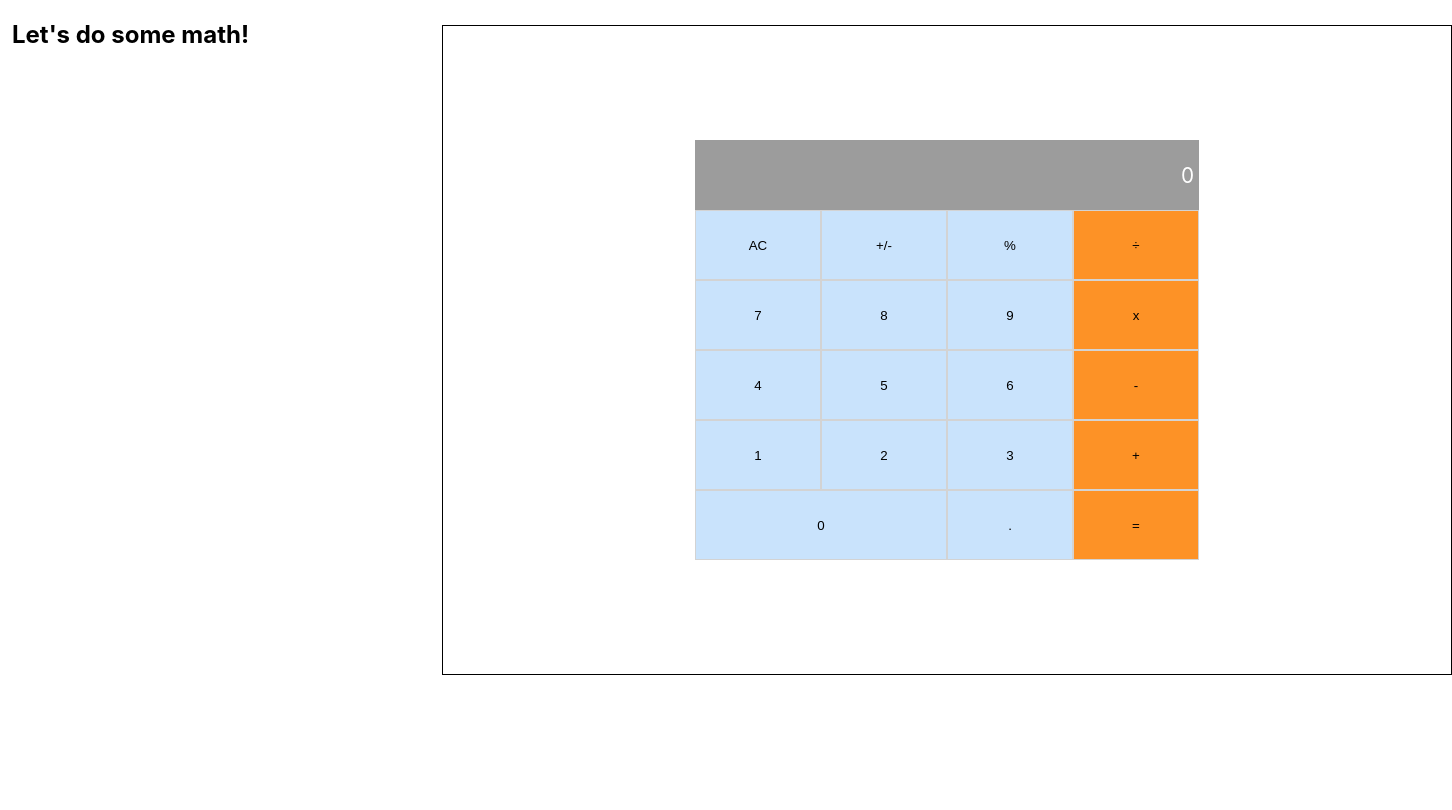
The UI works properly and it's accesible › the user press the +/- sign
Click the button "3". click: (1010, 455)
box: [947,420,1073,490]
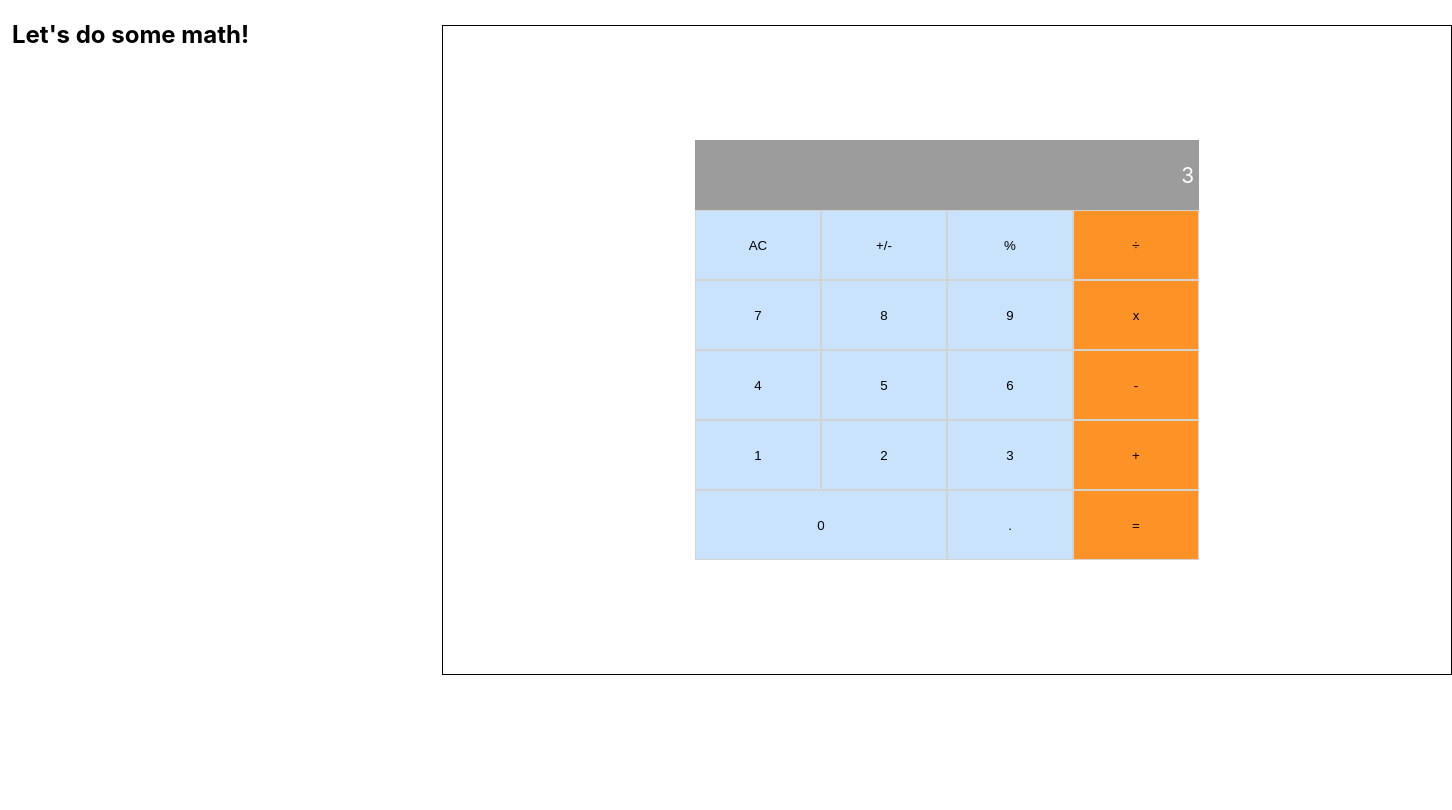
Click the button "6". click: (1010, 385)
box: [947,350,1073,420]
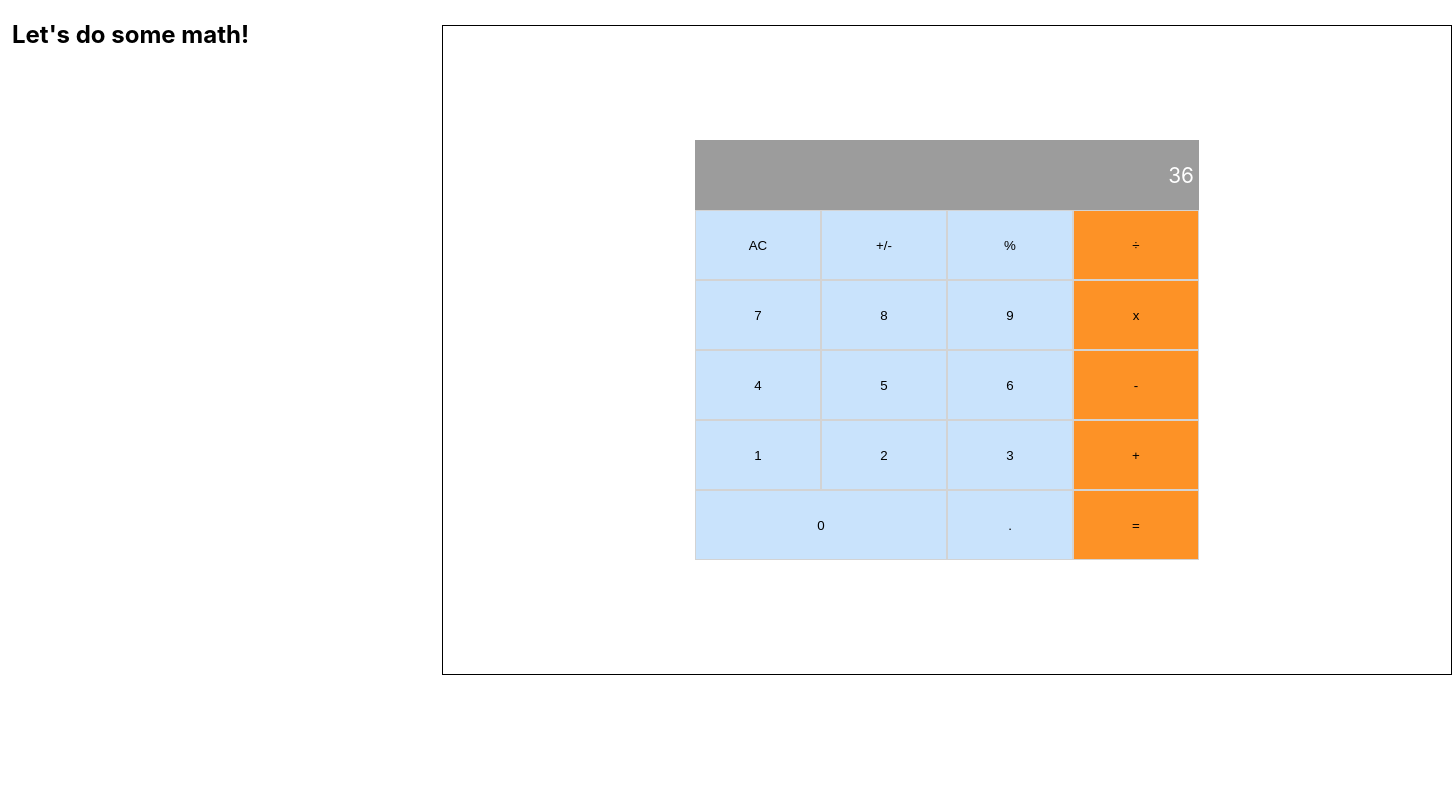
Click the button "+/-". click: (884, 245)
box: [821,210,947,280]
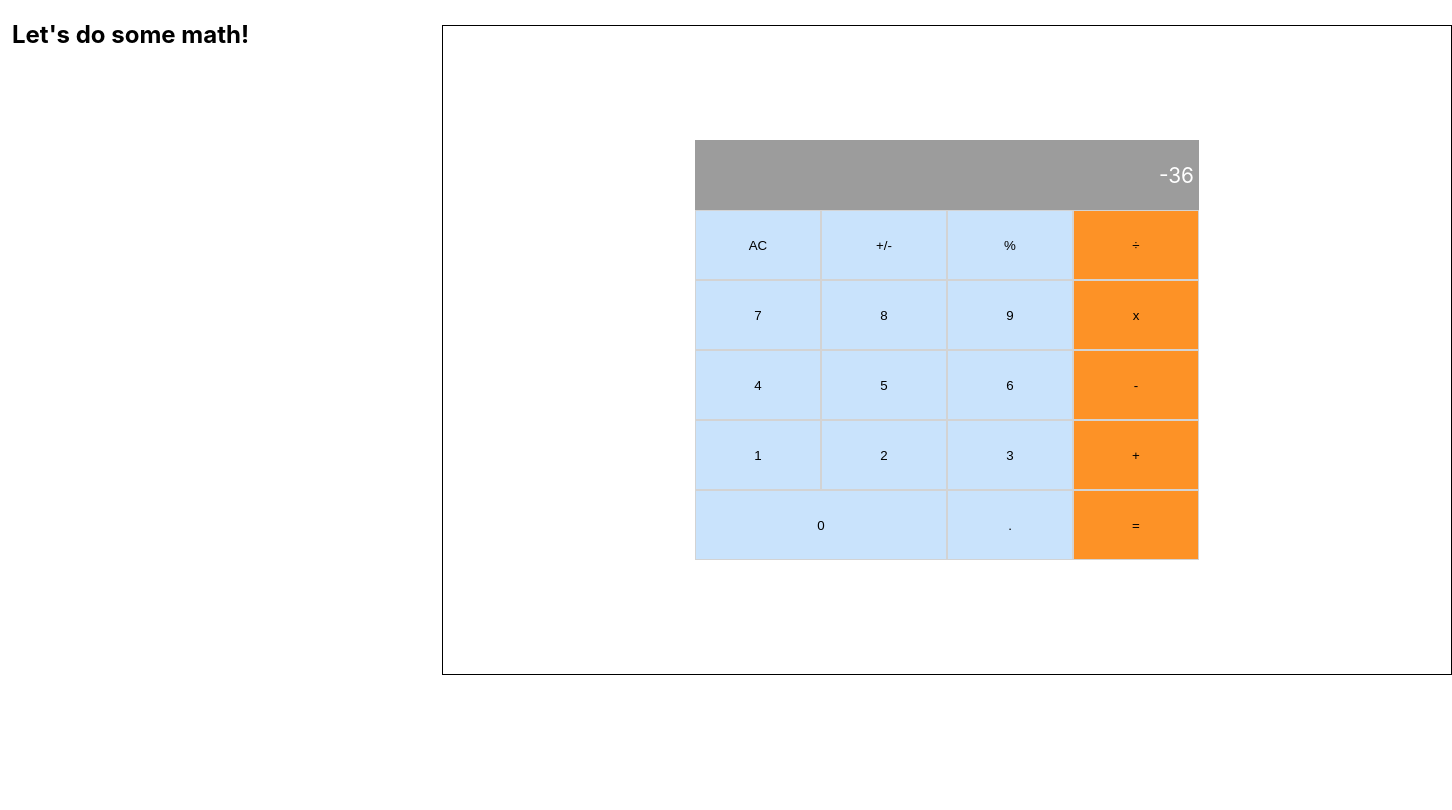
Result: the field reads "-36" at [1159,162,1194,188]
